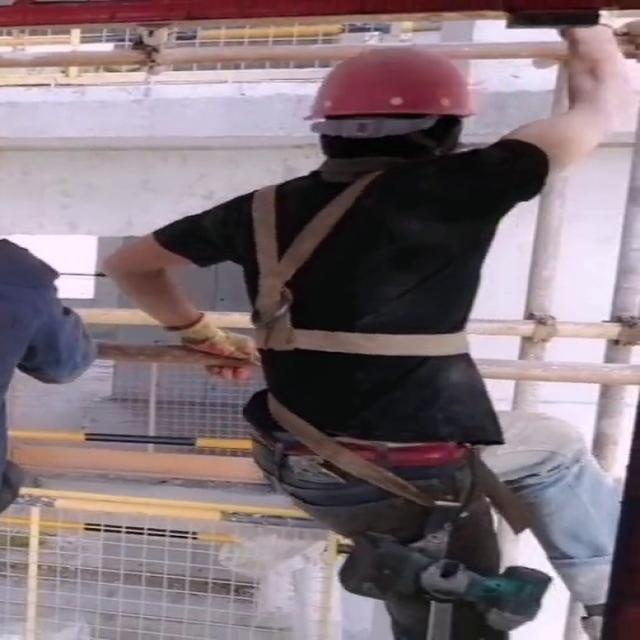Arnes_seguridad: (243, 157, 490, 367)
